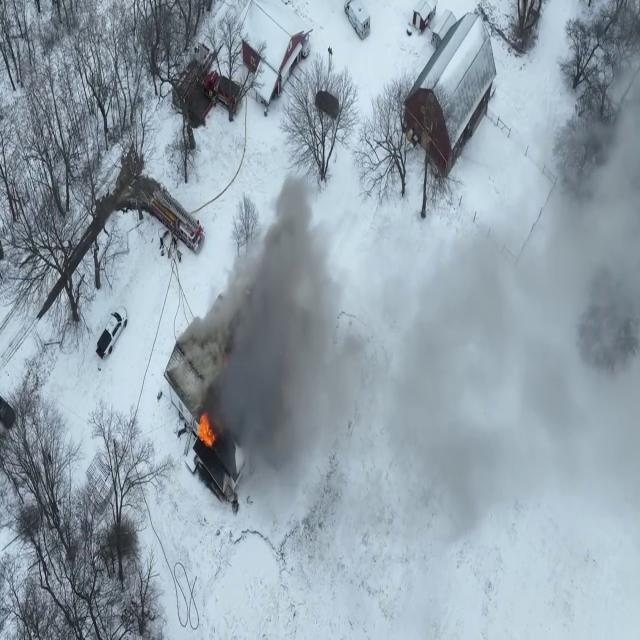Fire: (195, 402, 215, 456)
Smoke: (189, 6, 640, 622)
